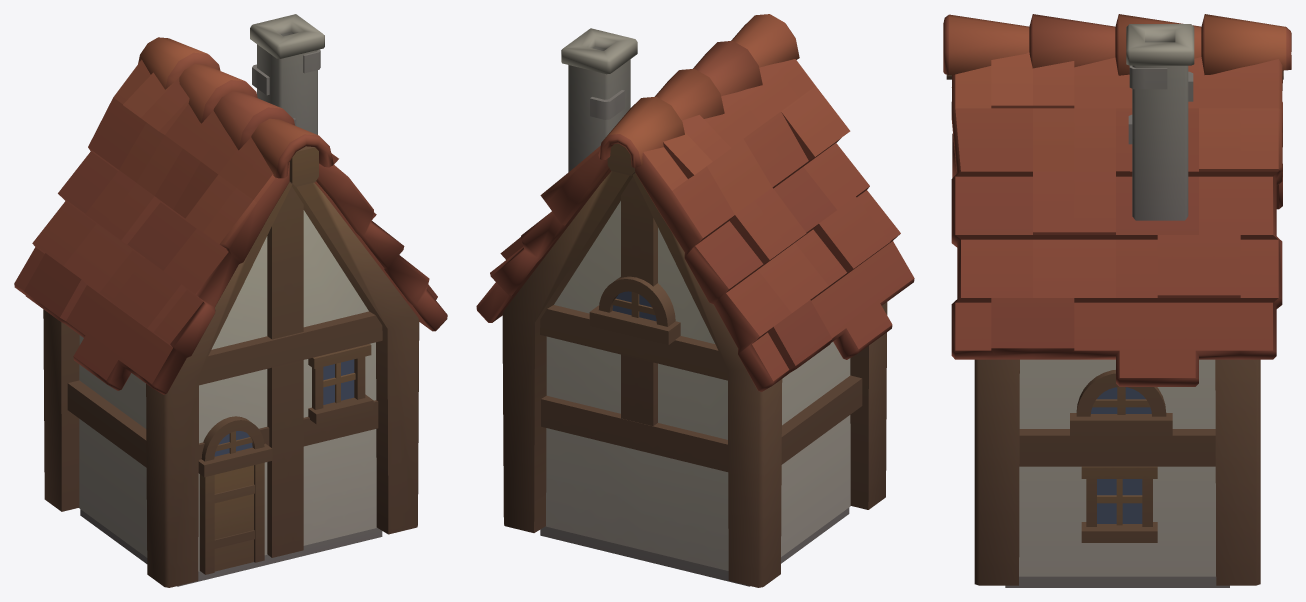
The model's file is house2_bevelParts.fbx.
The picture shows the model from 3 angles, left to right: view 1: azimuth 30°, elevation 25°; view 2: azimuth 150°, elevation 25°; view 3: azimuth 270°, elevation 25°; orthographic projection. The views are drawn at different scales.
Parts seen in each view (by area): view 1: house2_edge, house2_noEdge; view 2: house2_edge, house2_noEdge; view 3: house2_edge, house2_noEdge.
Part boxes in pixels (box(x1,y1,x2,y2)): house2_edge: box(14, 14, 447, 587); house2_noEdge: box(67, 146, 382, 586); house2_edge: box(476, 14, 914, 587); house2_noEdge: box(540, 143, 862, 586); house2_edge: box(943, 14, 1291, 585); house2_noEdge: box(946, 70, 1283, 587).
Size of the model in its own units: 372 by 522 by 308.
